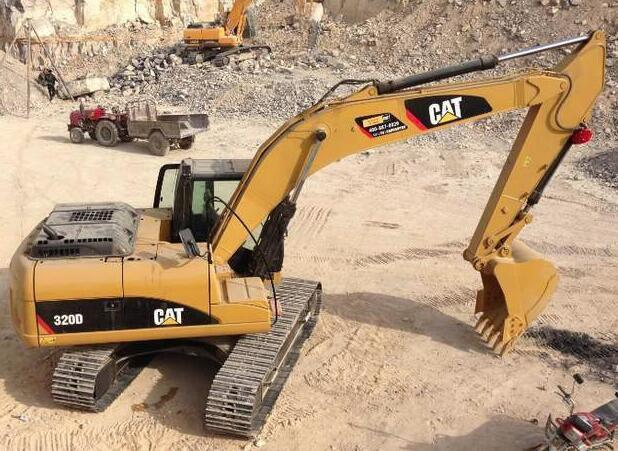excavator: (20, 28, 609, 372)
